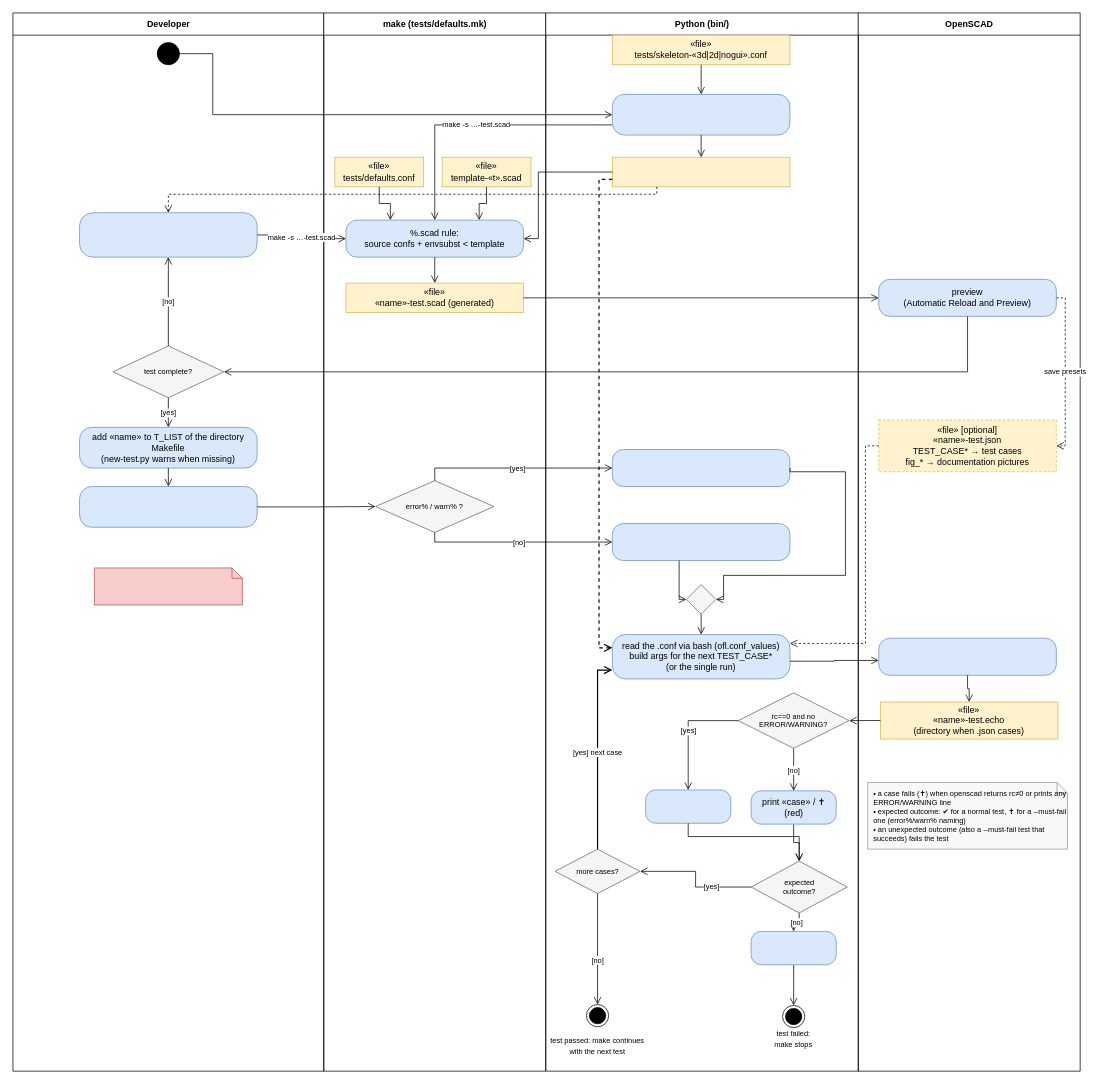
Image size: 1099x1084. Some labels were removed from this diagram. Here are the shapes that lost their labels. From the top down, the centre of each, then its label:
At (701,114): "new-test.py «dir/name» -t «3d|2d|nogui» (@LIB@ → relative library path)".
At (701,172): "«file» «name»-test.conf".
At (168,234): "edit «name»-test.conf (heredocs: OpenSCAD code verbatim)".
At (701,468): "make-test.py --must-fail".
At (168,506): "make -s tests/…/«name»-test.echo (or the whole suite: make -s tests/runs)".
At (701,542): "make-test.py".
At (168,586): "Edit the .conf, NEVER the generated .scad".
At (967,656): "openscad -o «name»-test.echo [-p .json -P «case»]".
At (688,806): "print «case» / ✔ (green)".
At (793,948): "rename to *-failed.echo exit 1".
